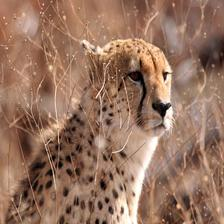Cheetah: (4, 36, 176, 224)
